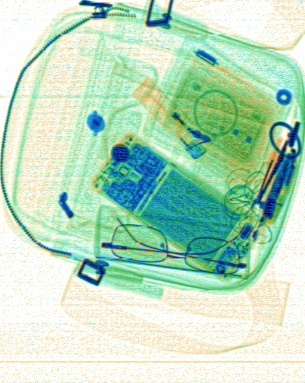lighter: (129, 75, 210, 159)
